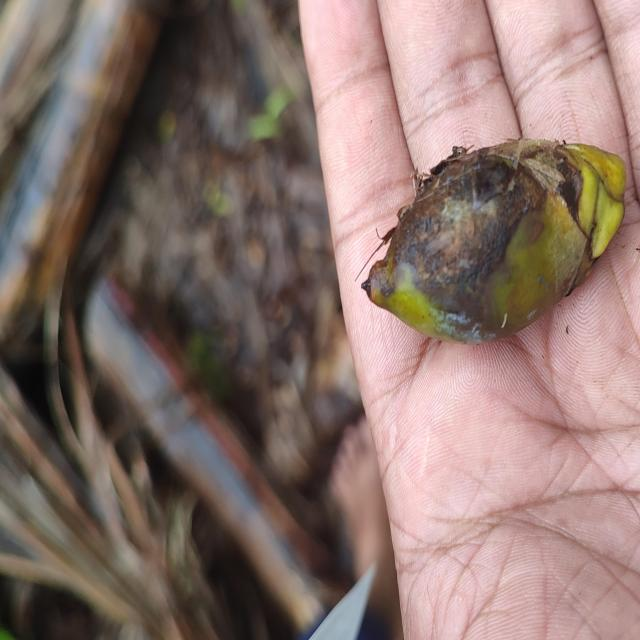damaged: (360, 140, 629, 345)
